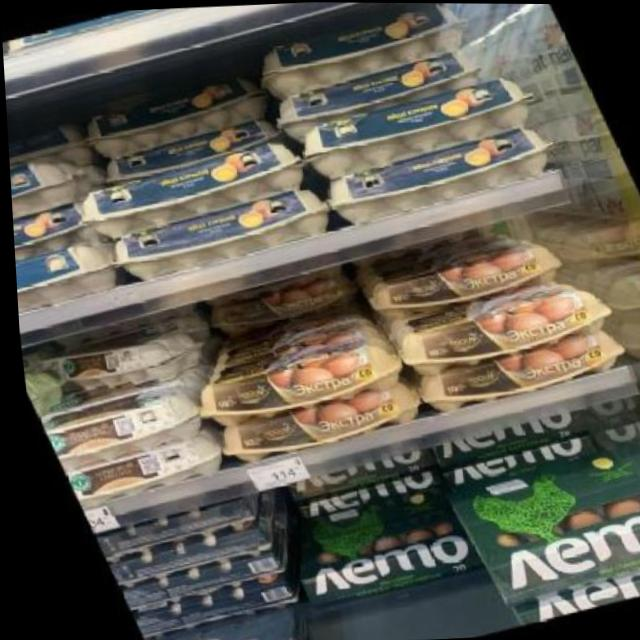Egg: (286, 70, 550, 185), (313, 121, 571, 232), (380, 269, 619, 382), (175, 324, 409, 436), (64, 136, 313, 240), (102, 184, 340, 284), (243, 1, 482, 100), (264, 43, 496, 135), (404, 325, 631, 417), (205, 378, 431, 470), (354, 236, 571, 326), (69, 71, 278, 164), (31, 379, 209, 477), (22, 317, 208, 409), (55, 431, 225, 511), (199, 268, 365, 340), (11, 241, 120, 317), (7, 151, 101, 233), (9, 198, 99, 276)
